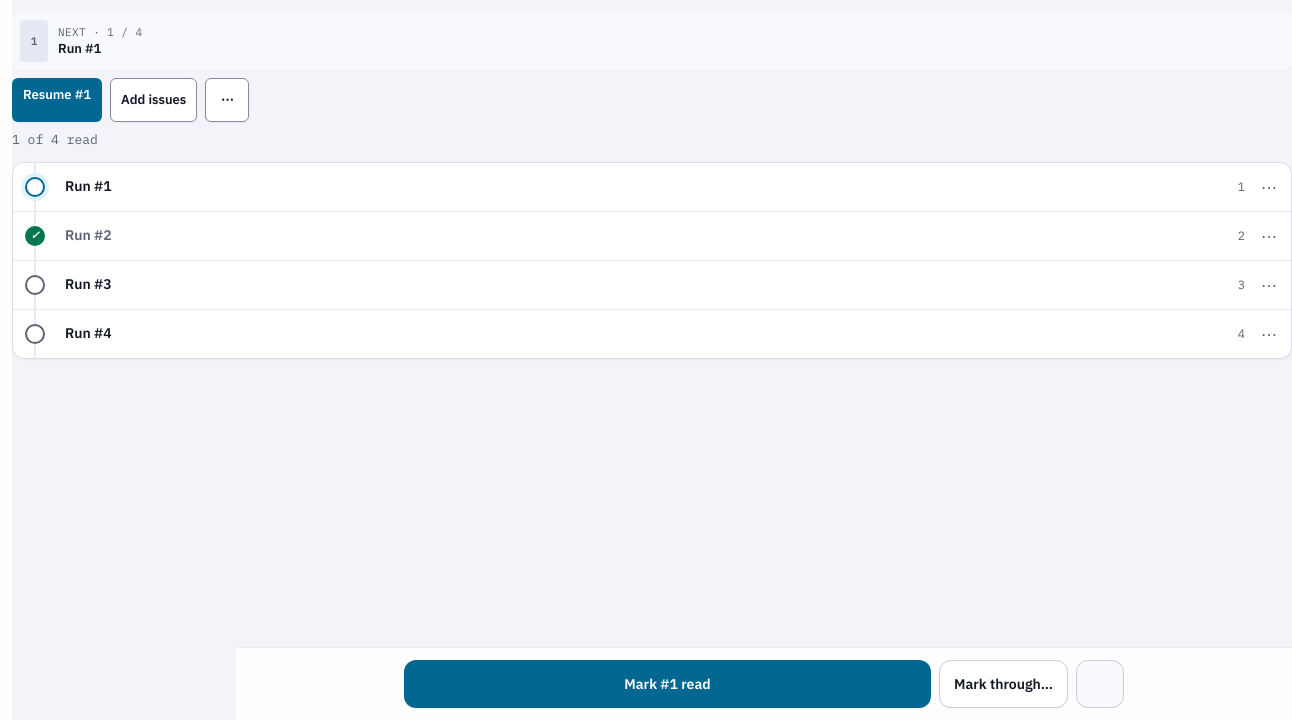
Test case: the run's ⋯ menu › copies every label, and the run's series text as ranges
Click the button with class "more".
click(227, 100)  # box [205,78,249,122]
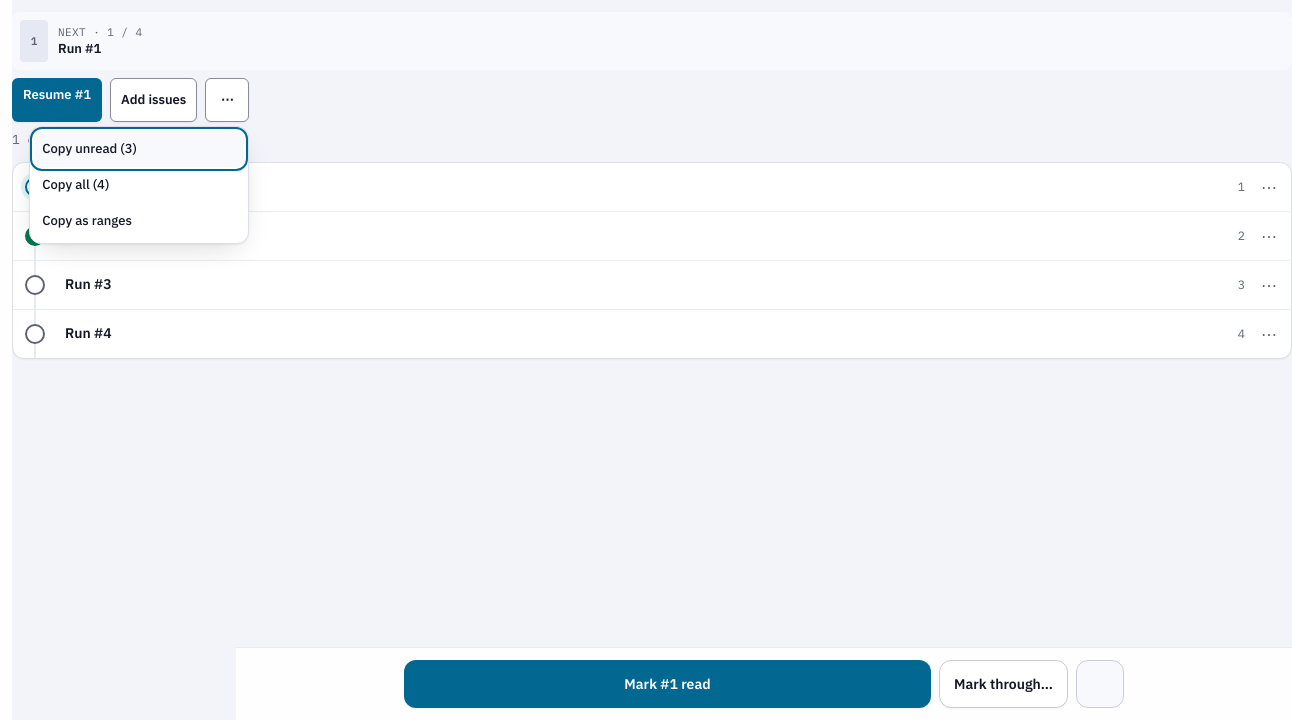
Click the menu item "Copy all (4)".
click(139, 185)  # box [34,167,244,203]
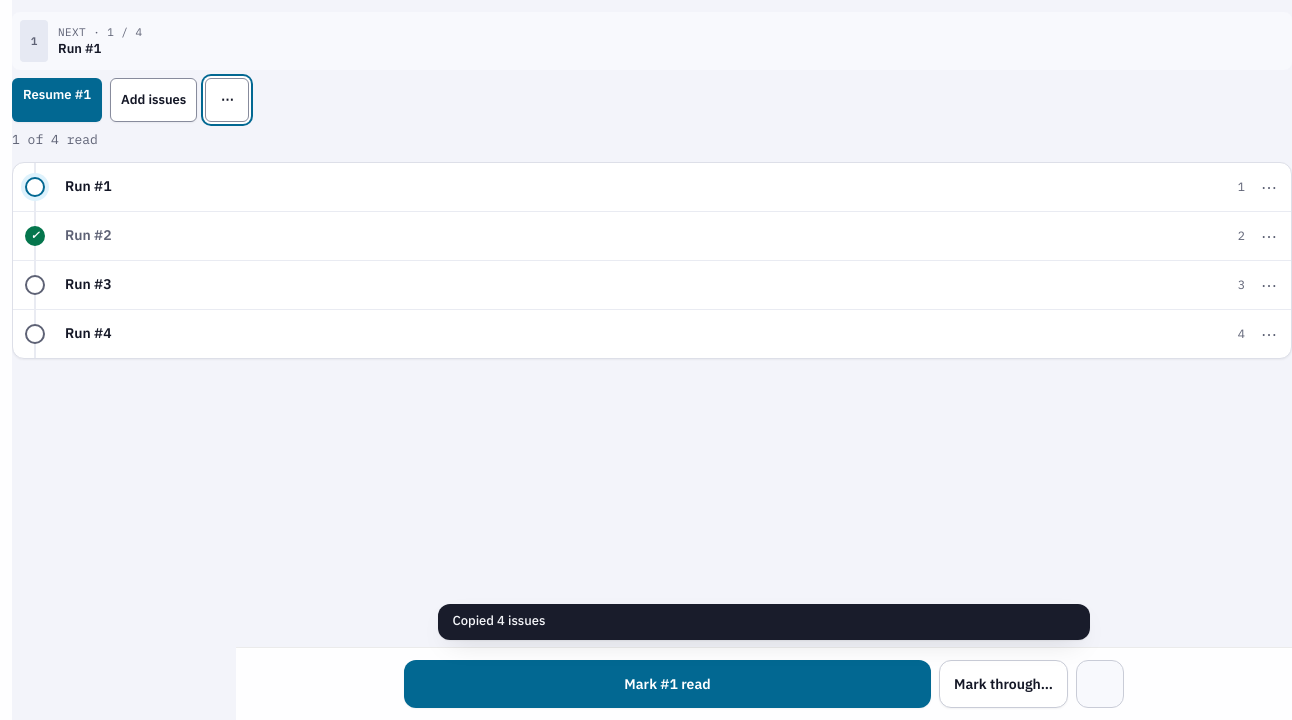
Result: the message "Copied 4 issues" is shown at [438,604,1090,640]
Click the button with class "more".
click(227, 100)  # box [205,78,249,122]
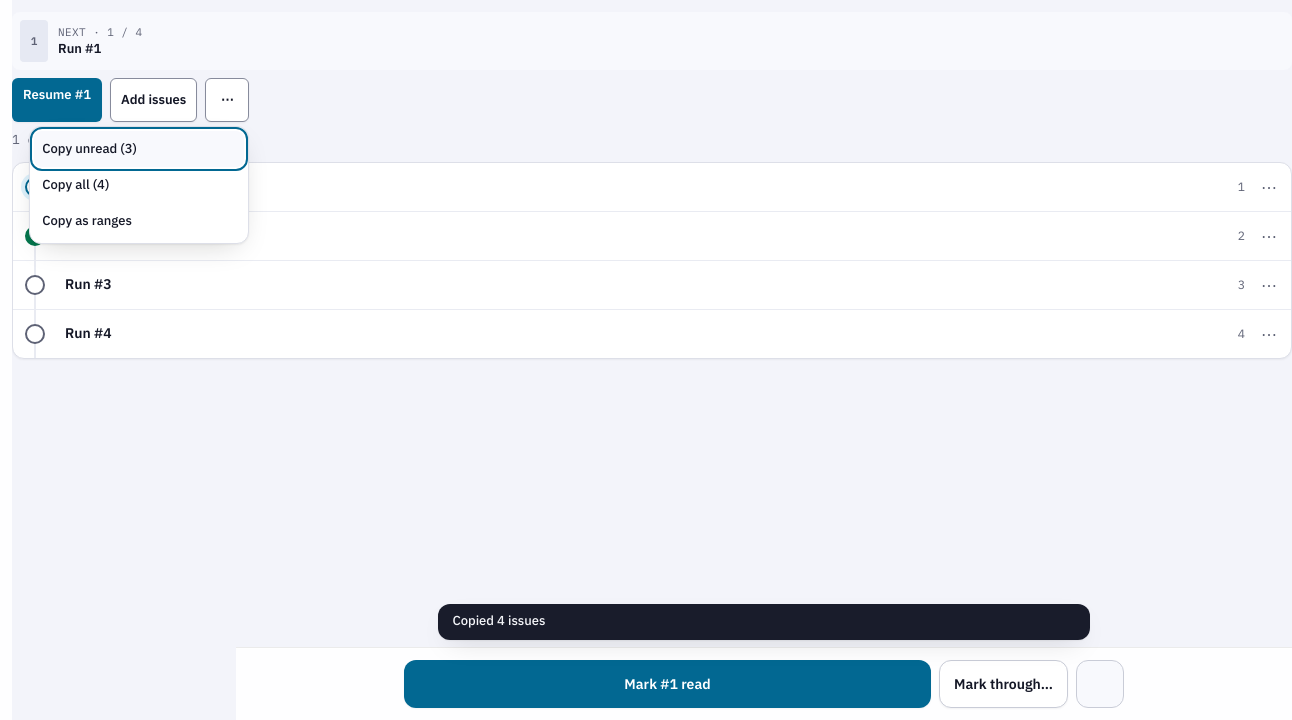
Click the menu item "Copy as ranges".
click(139, 221)  # box [34,203,244,239]
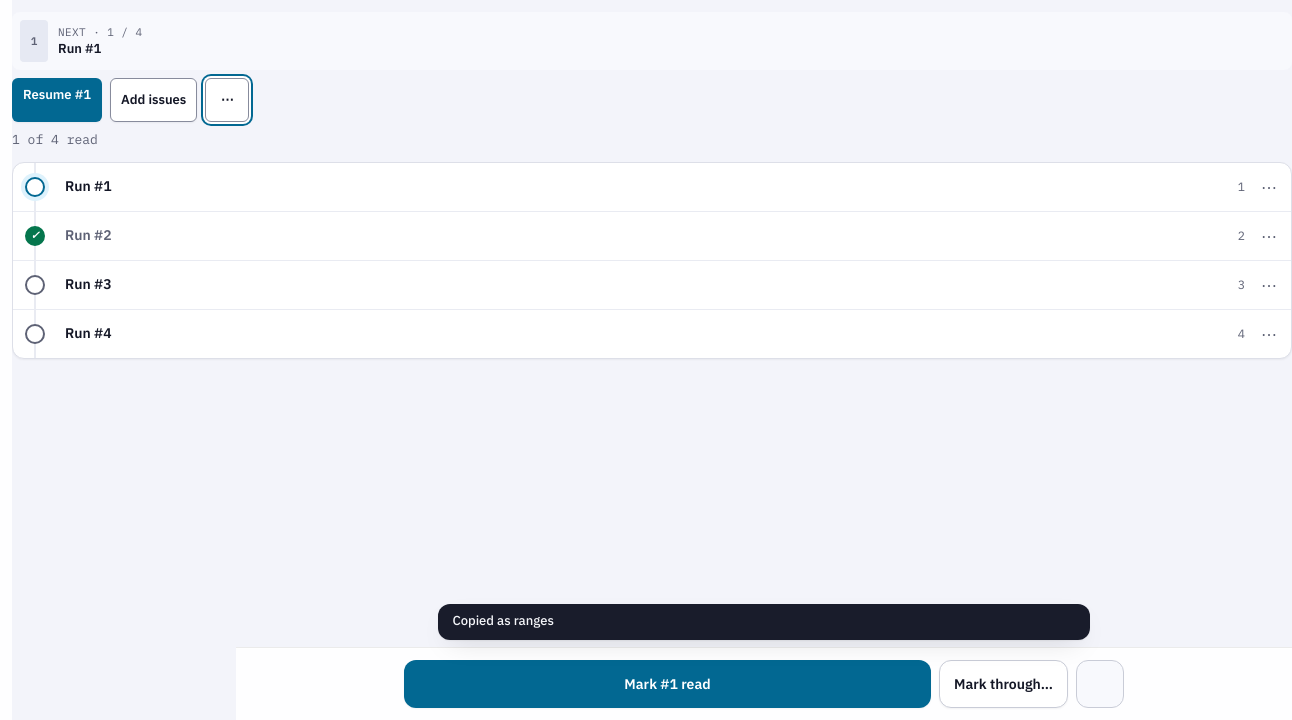
Result: the message "Copied as ranges" is shown at [438,604,1090,640]
